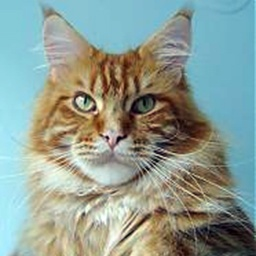cat: (29, 3, 232, 252)
